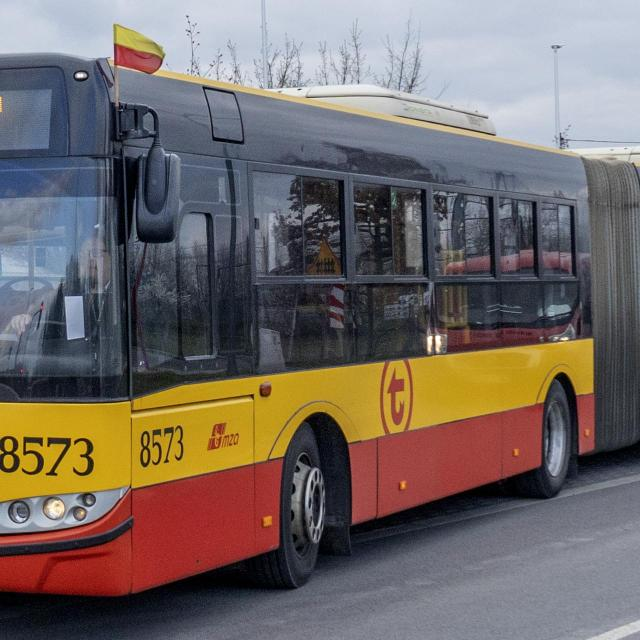Bus: (0, 53, 640, 596)
